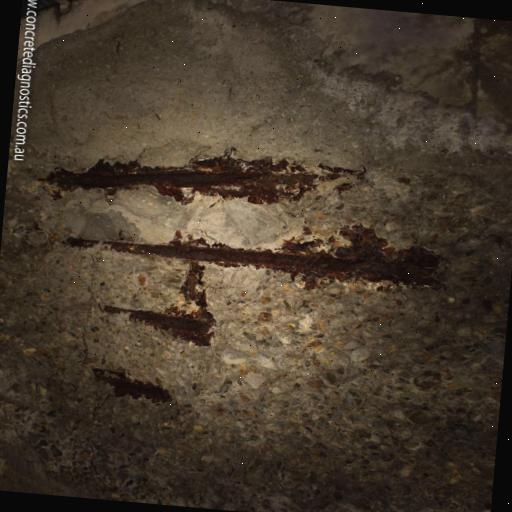spalling: (11, 128, 463, 446)
